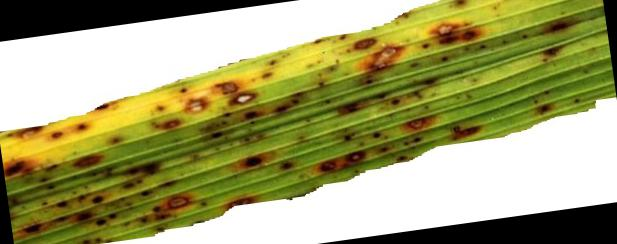brown_spot: (49, 19, 481, 218)
